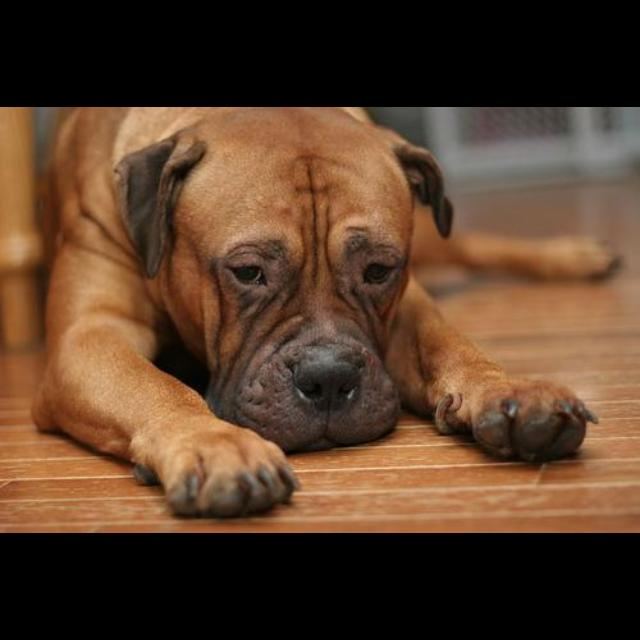bullmastiff: (31, 108, 623, 520)
